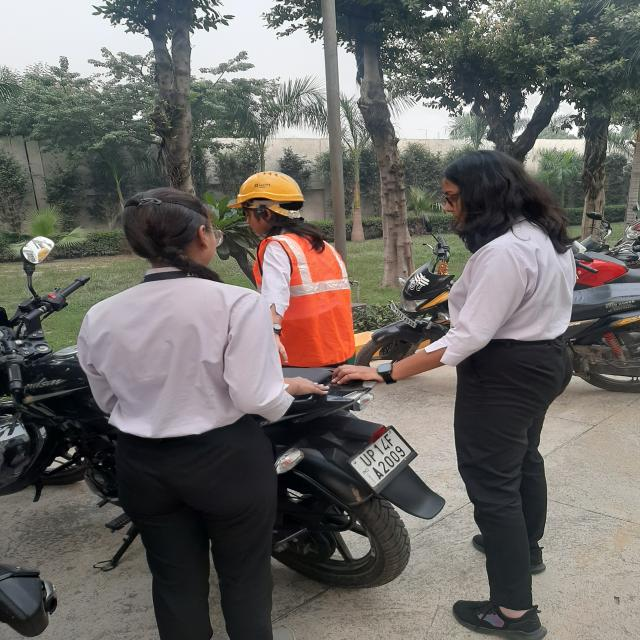safe: (235, 160, 372, 391)
unsafe: (67, 182, 283, 640), (425, 145, 606, 640)
